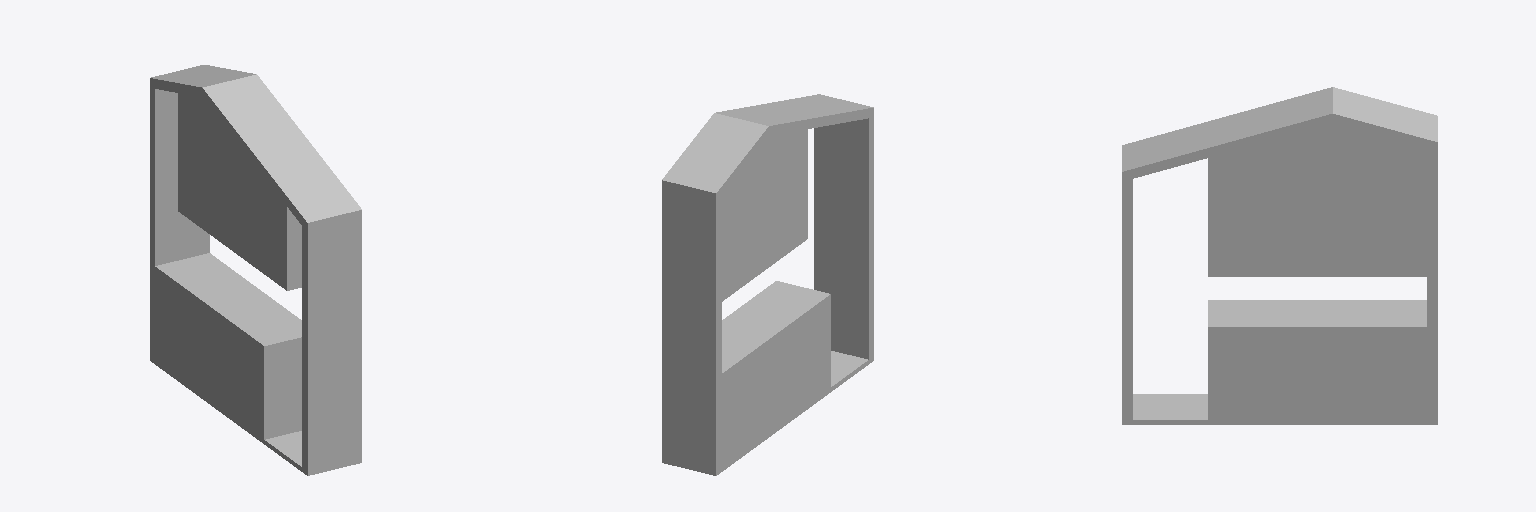
File: modulo_cocina.obj
3 renders of one model, left to right at view 1: azimuth 30°, elevation 25°; view 2: azimuth 150°, elevation 25°; view 3: azimuth 270°, elevation 25°, orthographic.
Parts seen in each view (by area): view 1: Mesh2 m_dulo_cocina_dwg1 Model, Mesh3 m_dulo_cocina_dwg1 Model; view 2: Mesh2 m_dulo_cocina_dwg1 Model, Mesh3 m_dulo_cocina_dwg1 Model; view 3: Mesh2 m_dulo_cocina_dwg1 Model, Mesh3 m_dulo_cocina_dwg1 Model.
Boxes of the visible parts, x1,y1,x2,y2 form: Mesh2 m_dulo_cocina_dwg1 Model: [150, 65, 361, 475]; Mesh3 m_dulo_cocina_dwg1 Model: [178, 93, 301, 290]; Mesh2 m_dulo_cocina_dwg1 Model: [662, 94, 873, 475]; Mesh3 m_dulo_cocina_dwg1 Model: [722, 129, 807, 301]; Mesh2 m_dulo_cocina_dwg1 Model: [1122, 87, 1437, 424]; Mesh3 m_dulo_cocina_dwg1 Model: [1208, 124, 1426, 276].
Size of the model in its own units: 601 by 3266 by 3001.